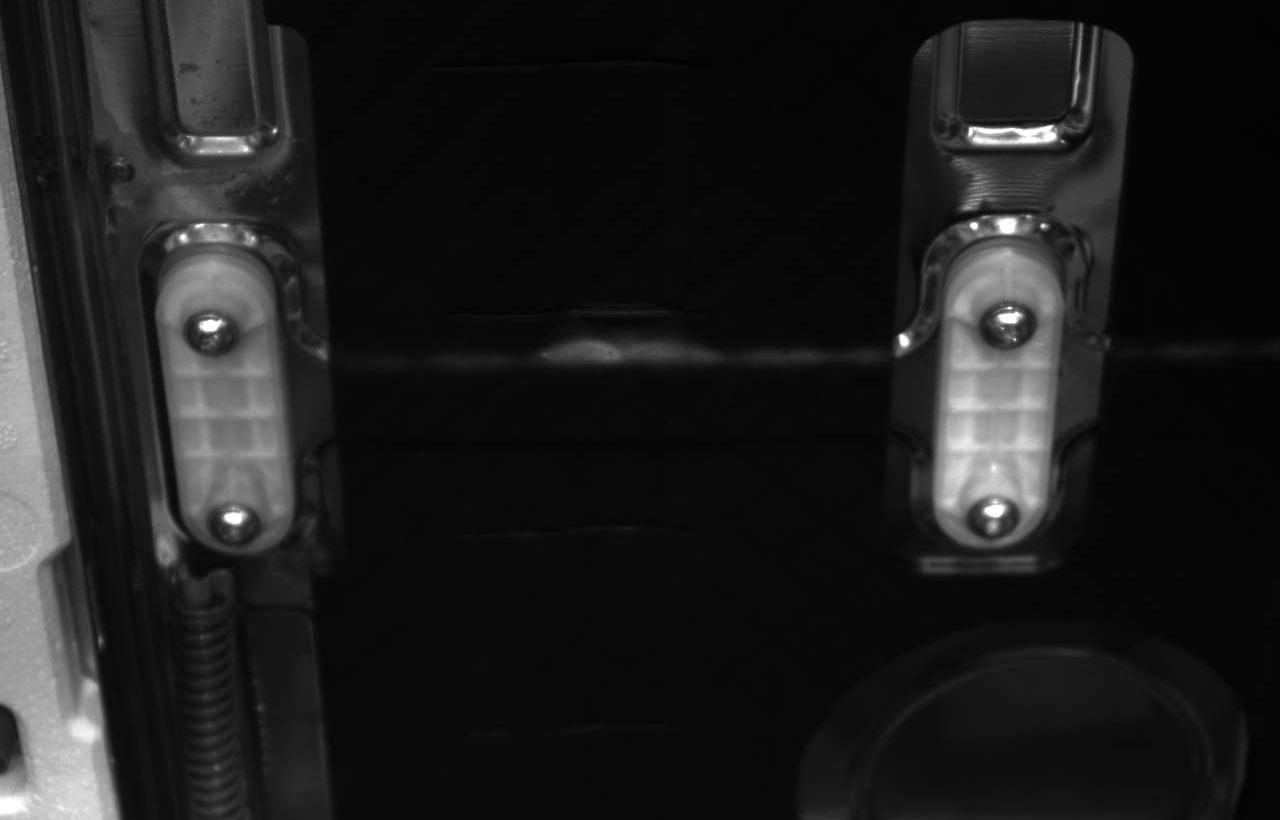vida-ok: (176, 299, 247, 367), (961, 482, 1027, 551), (973, 287, 1040, 354), (201, 492, 267, 551)
